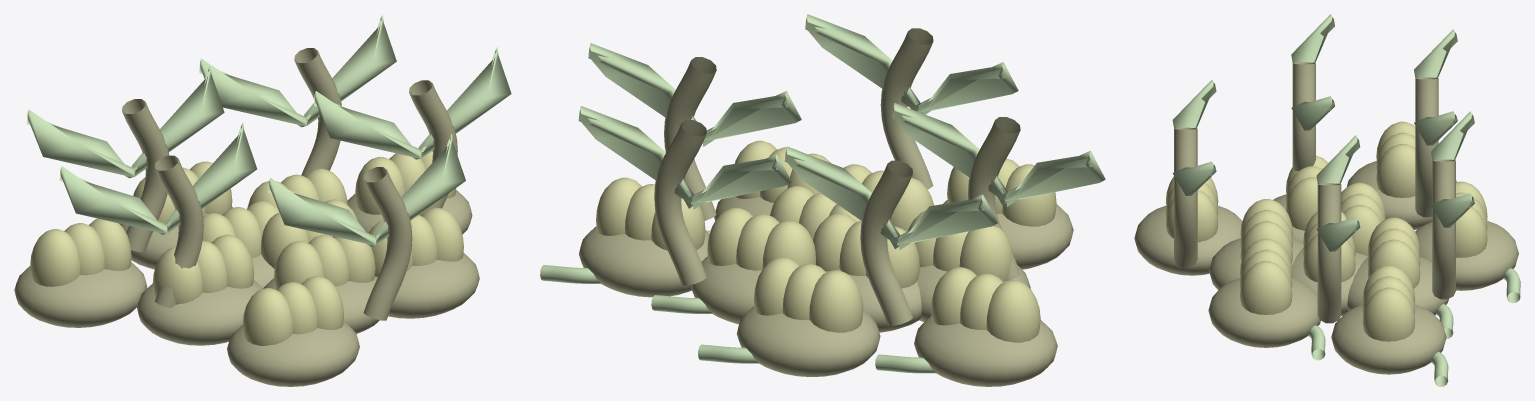
File: bio_acid_mat_02_near.glb
3 views of the same model, side by side, from view 1: azimuth 30°, elevation 25°; view 2: azimuth 150°, elevation 25°; view 3: azimuth 270°, elevation 25° (orthographic). The views are drawn at different scales.
Visible parts, largest first — view 1: Microbial cushion.007, Microbial cushion.009, Secondary fan lobe.004, Secondary fan lobe.002, Secondary fan lobe.008, Secondary fan lobe, Secondary fan lobe.006, Reaction vesicle.021, Reaction vesicle.027, Microbial cushion.004, Reaction vesicle.012, Reaction vesicle.006 (+16 smaller); view 2: Microbial cushion.006, Microbial cushion.009, Reaction vesicle.018, Reaction vesicle.027, Secondary fan lobe.002, Secondary fan lobe.006, Secondary fan lobe.008, Secondary fan lobe.004, Secondary fan lobe, Microbial cushion.008, Reaction vesicle.009, Branching support.001 (+20 smaller); view 3: Microbial cushion.008, Microbial cushion.005, Reaction vesicle.015, Reaction vesicle.024, Microbial cushion.007, Microbial cushion.006, Branching support, Branching support.003, Branching support.002, Reaction vesicle.027, Reaction vesicle.009, Branching support.001 (+20 smaller).
Boxes of the visible parts, box(x1,y1,x2,y2) form: Microbial cushion.007: box(227, 321, 359, 386); Microbial cushion.009: box(14, 262, 147, 327); Secondary fan lobe.004: box(268, 133, 465, 246); Secondary fan lobe.002: box(27, 65, 224, 178); Secondary fan lobe.008: box(59, 122, 256, 234); Secondary fan lobe: box(314, 47, 511, 159); Secondary fan lobe.006: box(199, 14, 396, 127); Reaction vesicle.021: box(242, 276, 343, 345); Reaction vesicle.027: box(30, 218, 131, 286); Microbial cushion.004: box(137, 280, 263, 345); Reaction vesicle.012: box(152, 234, 254, 304); Reaction vesicle.006: box(274, 235, 375, 289); Microbial cushion.006: box(736, 306, 880, 376); Microbial cushion.009: box(914, 316, 1057, 386); Reaction vesicle.018: box(754, 257, 863, 332); Reaction vesicle.027: box(931, 267, 1040, 342); Secondary fan lobe.002: box(784, 146, 997, 249); Secondary fan lobe.006: box(578, 106, 791, 209); Secondary fan lobe.008: box(892, 103, 1105, 206); Secondary fan lobe.004: box(805, 14, 1018, 114); Secondary fan lobe: box(588, 43, 801, 146); Microbial cushion.008: box(579, 226, 709, 297); Reaction vesicle.009: box(707, 207, 815, 270); Branching support.001: box(860, 160, 912, 326); Microbial cushion.008: box(1331, 304, 1446, 374); Microbial cushion.005: box(1208, 278, 1320, 347); Reaction vesicle.015: box(1240, 238, 1292, 314); Reaction vesicle.024: box(1362, 265, 1415, 341); Microbial cushion.007: box(1134, 205, 1242, 275); Microbial cushion.006: box(1415, 220, 1518, 290); Branching support: box(1317, 183, 1341, 323); Branching support.003: box(1432, 159, 1455, 299); Branching support.002: box(1174, 127, 1197, 267); Reaction vesicle.027: box(1376, 121, 1415, 197); Reaction vesicle.009: box(1368, 217, 1420, 288); Branching support.001: box(1415, 77, 1438, 217).
Bounding box in the file's own units: 1.85 × 0.755 × 1.47.
